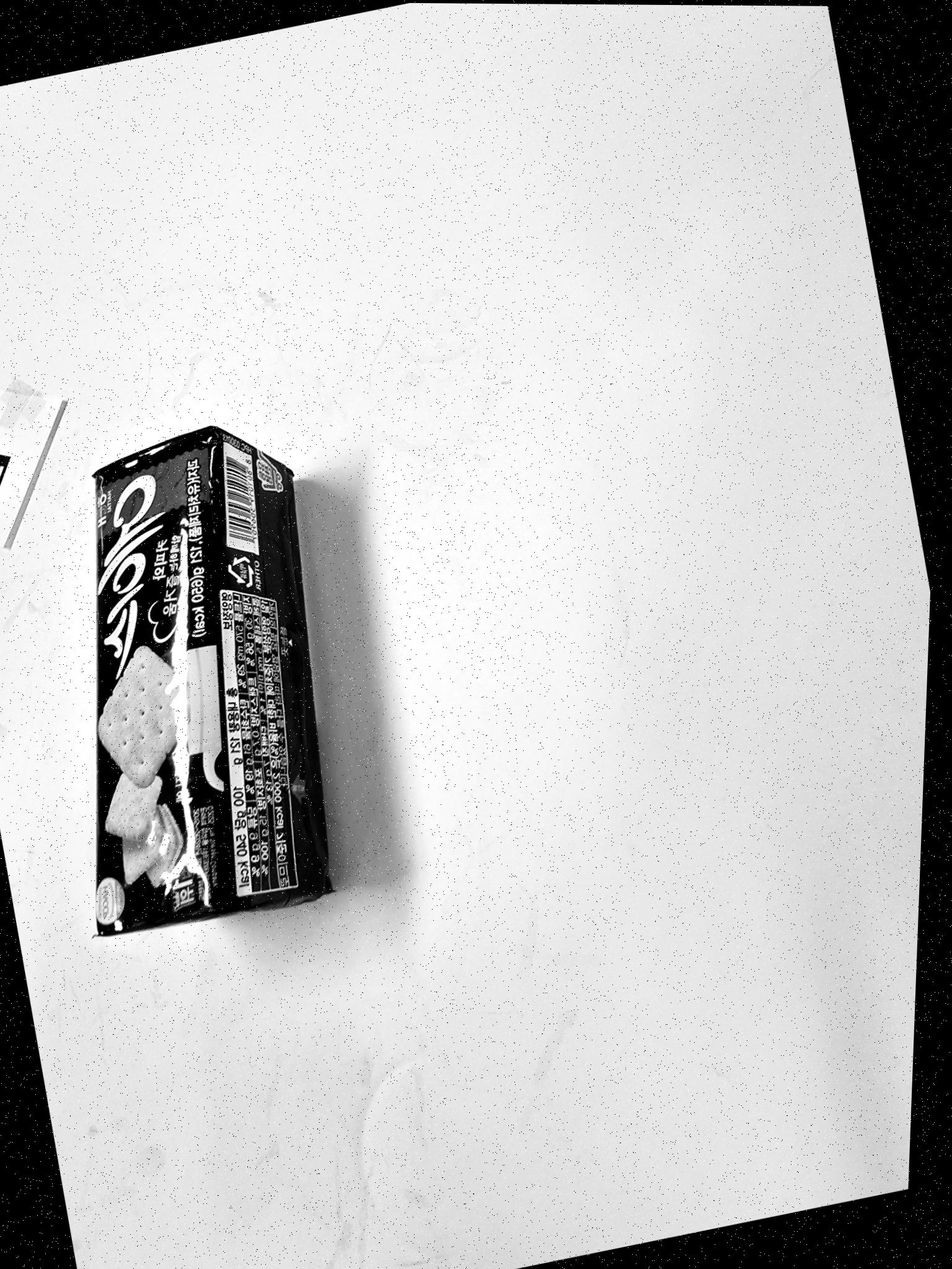cracker_ace: (95, 427, 330, 935)
